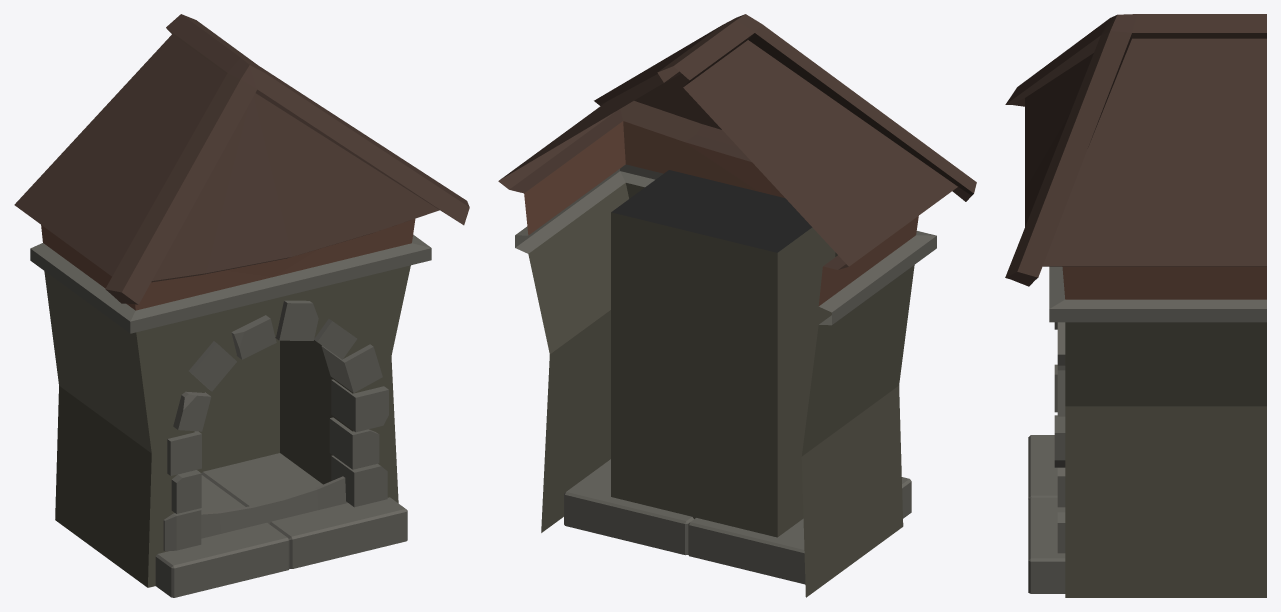
File: LPHorror_FirePlace.fbx
3 renders of one model, left to right at view 1: azimuth 30°, elevation 25°; view 2: azimuth 150°, elevation 25°; view 3: azimuth 270°, elevation 25°, orthographic. The views are drawn at different scales.
Visible parts, largest first — view 1: FirePlace; view 2: FirePlace; view 3: FirePlace.
Boxes of the visible parts, <box> form: FirePlace: <box>14,14,469,597</box>; FirePlace: <box>498,14,976,597</box>; FirePlace: <box>1005,14,1266,597</box>.
Size of the model in its own units: 196 by 246 by 113.
